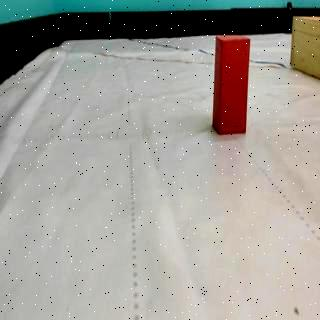redbox: (213, 34, 250, 134)
